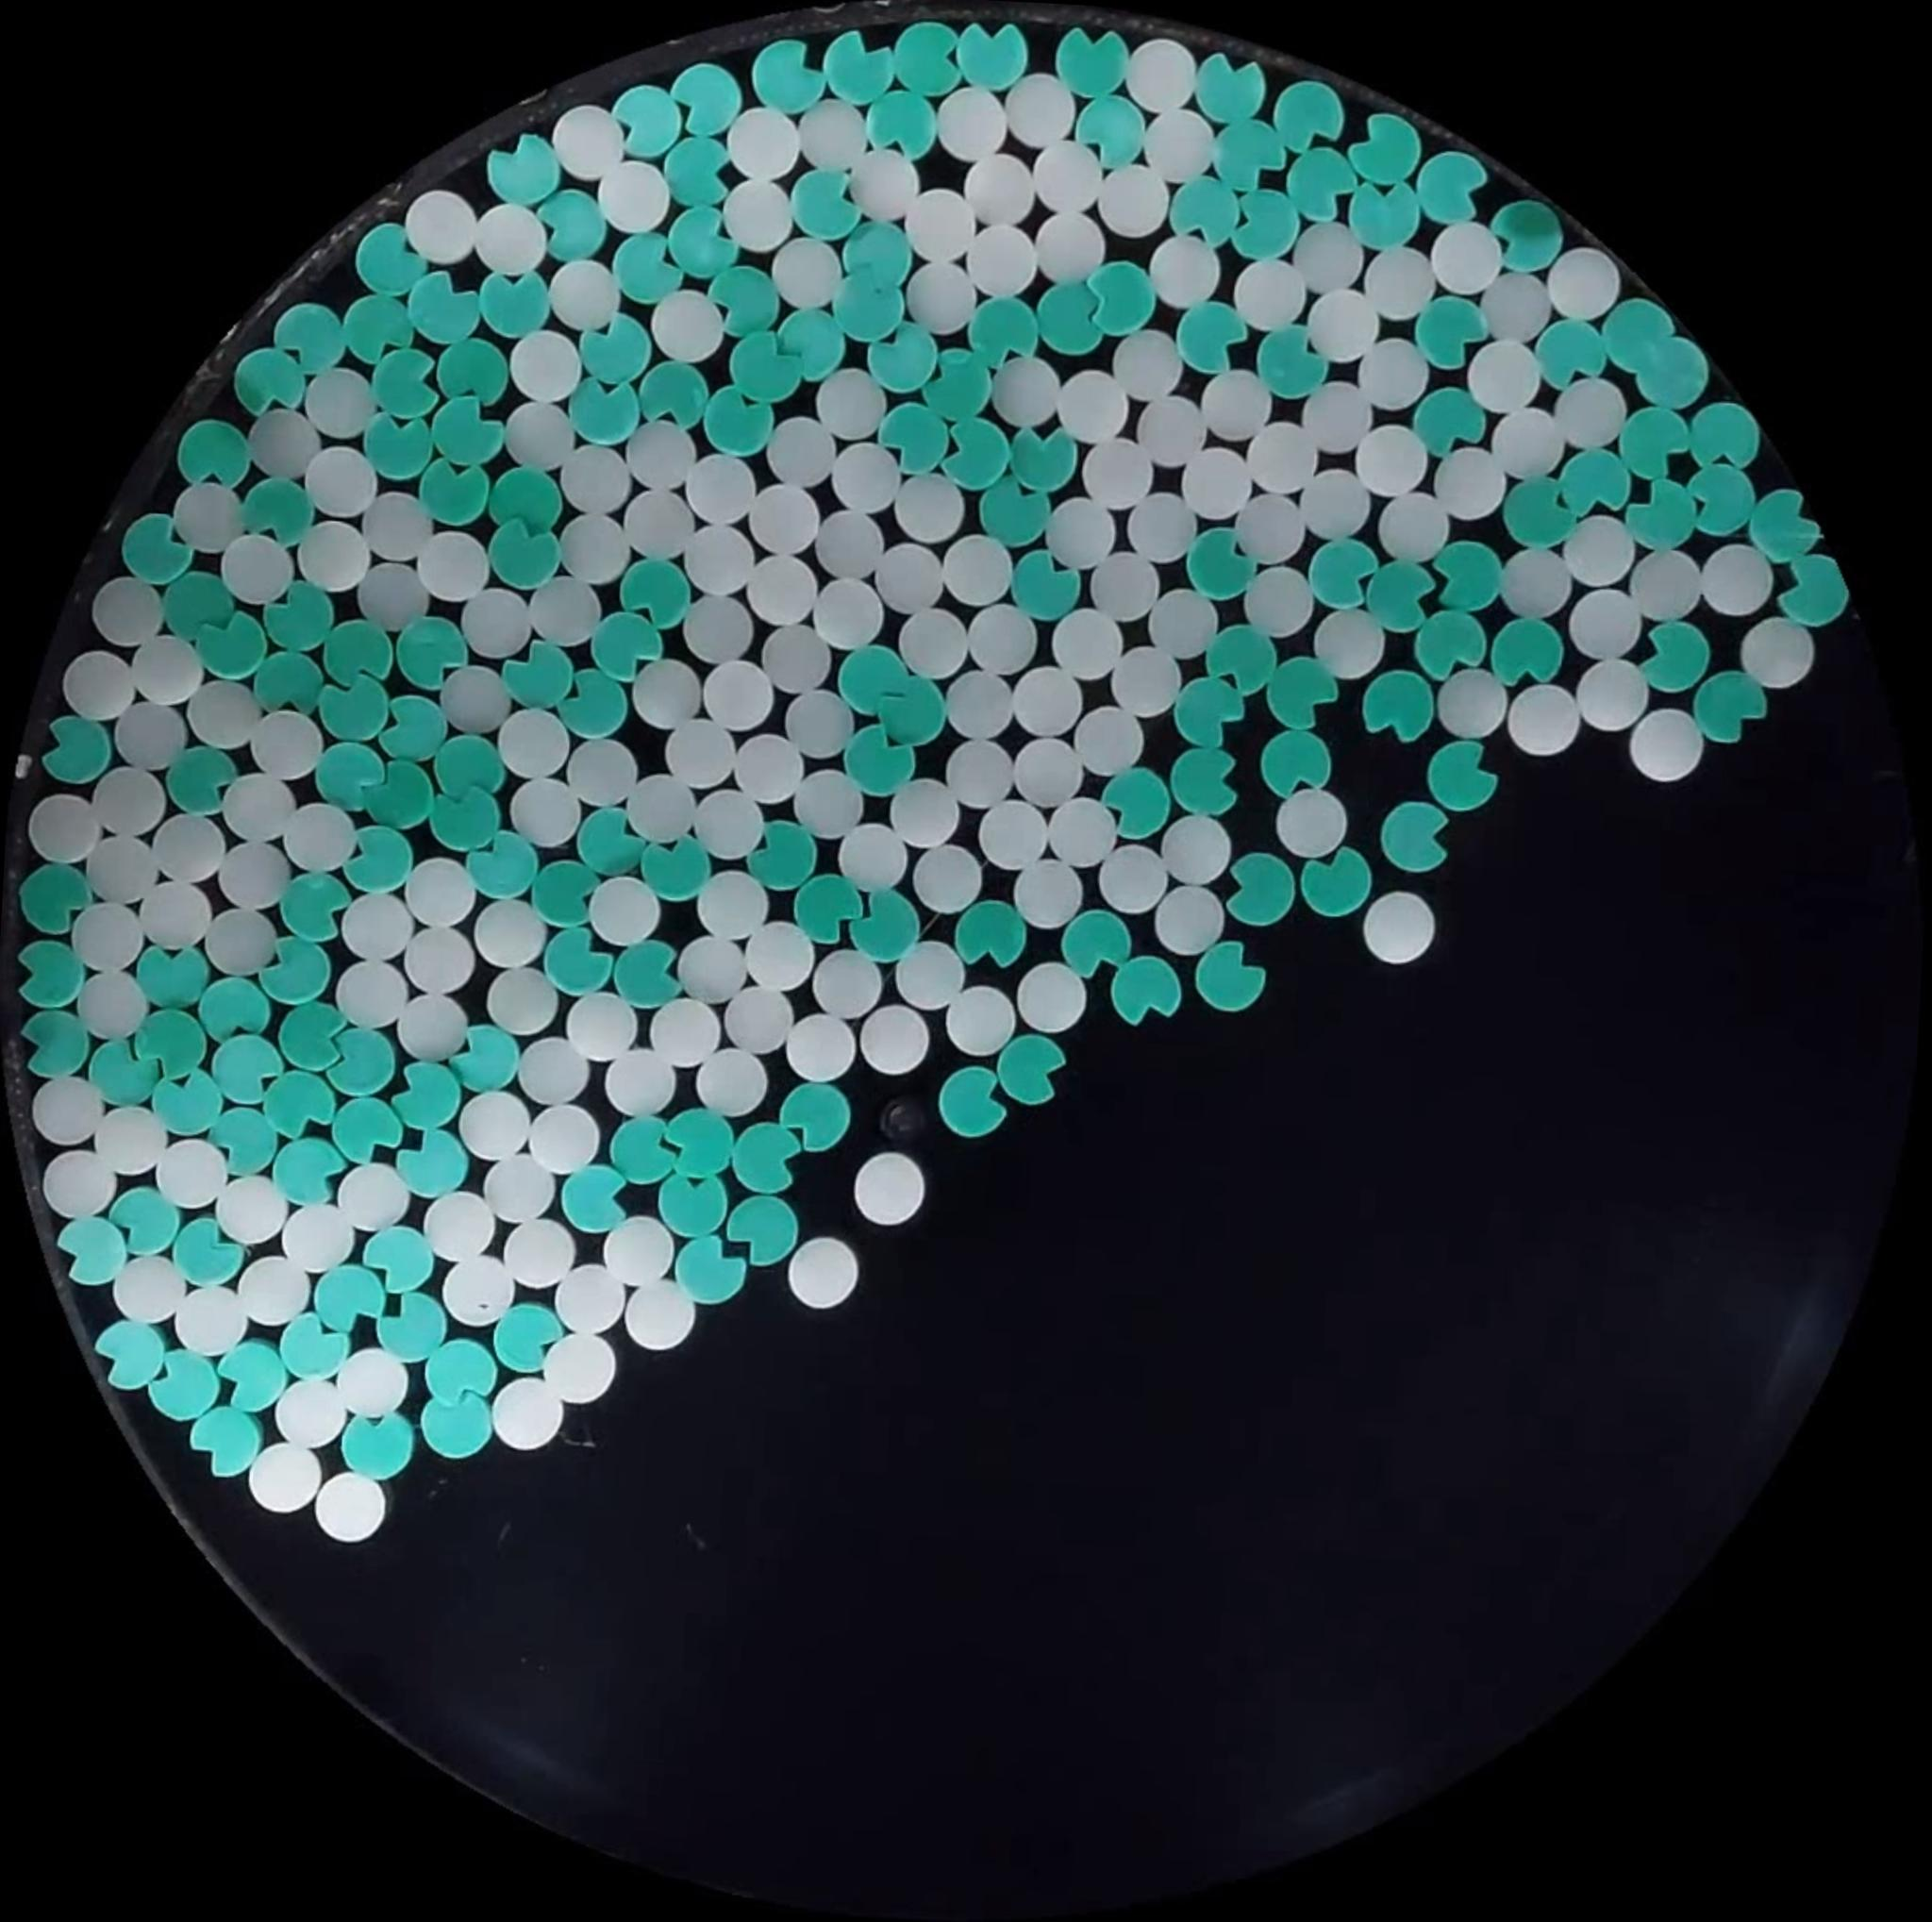disco-pmma: (1003, 660, 1098, 748), (1172, 442, 1263, 530), (1012, 730, 1093, 827), (933, 730, 1019, 818), (806, 577, 896, 662), (697, 866, 787, 949), (1089, 829, 1172, 917), (1467, 268, 1559, 347), (90, 569, 172, 655), (758, 408, 846, 489), (1158, 799, 1240, 884), (669, 929, 757, 1009), (1281, 218, 1369, 297), (1346, 334, 1438, 410), (1357, 241, 1439, 324), (558, 438, 640, 521), (1066, 704, 1149, 787), (753, 623, 839, 702), (723, 106, 806, 187), (1566, 584, 1649, 665), (1026, 137, 1107, 220), (199, 898, 282, 979), (1197, 366, 1277, 449), (867, 533, 947, 618), (957, 600, 1043, 678), (648, 287, 728, 368), (593, 155, 674, 236), (716, 176, 797, 257), (435, 660, 516, 741), (686, 516, 767, 597), (1431, 442, 1510, 525), (901, 187, 980, 269), (88, 762, 171, 841), (699, 657, 781, 736), (1735, 613, 1818, 692), (524, 567, 609, 644), (1038, 495, 1123, 572), (1024, 206, 1109, 283), (299, 442, 380, 521), (544, 255, 625, 334), (415, 525, 494, 605), (507, 327, 586, 408), (744, 484, 825, 563), (1626, 708, 1707, 787), (1464, 336, 1543, 417), (1093, 160, 1174, 239), (125, 632, 206, 711), (1427, 220, 1508, 299), (1138, 104, 1218, 185), (60, 644, 141, 723), (1121, 35, 1200, 116), (79, 822, 160, 901), (134, 875, 216, 952), (148, 811, 231, 889), (1077, 435, 1160, 512), (1228, 255, 1311, 333), (1624, 547, 1709, 623), (294, 514, 373, 593), (662, 713, 741, 792), (1559, 514, 1638, 593), (1353, 422, 1432, 502), (91, 1104, 171, 1183), (1571, 657, 1650, 736), (1293, 465, 1372, 544), (171, 1281, 252, 1359), (1541, 246, 1622, 324), (468, 201, 549, 278), (538, 1329, 619, 1406), (545, 106, 626, 183), (961, 150, 1038, 231), (684, 451, 765, 528), (1246, 417, 1323, 498), (1300, 285, 1381, 363), (69, 894, 151, 970), (934, 665, 1019, 739), (216, 532, 296, 609), (470, 894, 549, 972), (72, 966, 151, 1044), (28, 1074, 107, 1151), (514, 1031, 593, 1109), (1696, 542, 1775, 620), (501, 394, 581, 472), (1550, 377, 1628, 456), (401, 192, 480, 269), (1504, 681, 1584, 759), (690, 783, 767, 862), (1497, 547, 1577, 625), (183, 678, 264, 753), (1434, 672, 1517, 746), (216, 774, 301, 847), (399, 922, 477, 1000), (1052, 370, 1130, 447), (213, 1170, 290, 1248), (1001, 74, 1079, 151), (808, 507, 885, 584), (1109, 648, 1186, 725), (959, 222, 1036, 299), (1149, 236, 1226, 313), (602, 1045, 681, 1121), (743, 921, 822, 996), (454, 1088, 533, 1163), (151, 1135, 231, 1211), (39, 1146, 118, 1221), (560, 991, 639, 1067), (246, 709, 326, 785), (276, 1200, 355, 1276), (334, 1160, 413, 1236), (801, 952, 882, 1026), (774, 688, 855, 762), (1307, 609, 1388, 683), (359, 486, 442, 558), (834, 820, 917, 892), (1126, 394, 1209, 466), (619, 493, 704, 563), (846, 148, 922, 225), (728, 734, 806, 810), (401, 855, 479, 931), (933, 86, 1008, 164), (234, 1253, 311, 1329), (338, 889, 415, 965), (301, 366, 377, 444), (1360, 891, 1438, 966), (215, 833, 292, 908), (553, 510, 630, 586), (586, 875, 663, 950), (1086, 547, 1163, 623), (1490, 405, 1568, 480), (523, 1102, 602, 1176), (278, 801, 357, 875), (480, 1153, 560, 1227), (109, 699, 188, 773), (465, 581, 538, 660), (619, 419, 699, 493), (746, 551, 825, 625), (1374, 491, 1453, 565), (971, 799, 1052, 871), (938, 532, 1010, 613), (904, 259, 977, 340), (1049, 609, 1131, 679), (489, 1378, 565, 1454), (500, 1216, 575, 1292), (394, 991, 472, 1065), (421, 1192, 498, 1265), (484, 965, 561, 1038), (109, 1251, 187, 1325), (794, 99, 871, 172), (623, 1280, 700, 1353), (440, 1255, 517, 1329), (885, 776, 962, 850), (331, 1348, 410, 1420), (348, 558, 428, 630), (716, 986, 795, 1058), (334, 957, 410, 1031), (1153, 884, 1226, 959), (646, 996, 721, 1070), (693, 1045, 769, 1119), (943, 984, 1017, 1060), (781, 1012, 857, 1086), (313, 1471, 389, 1545), (553, 1264, 628, 1338), (857, 1003, 931, 1079), (273, 1376, 348, 1450), (852, 1153, 927, 1227), (785, 1237, 860, 1311), (787, 769, 860, 845), (1237, 491, 1311, 567), (1306, 380, 1379, 456), (245, 1443, 322, 1515), (25, 797, 104, 868), (1014, 961, 1087, 1035), (1274, 787, 1348, 861), (602, 1216, 676, 1290), (245, 407, 320, 479), (899, 605, 975, 678), (1153, 583, 1223, 660), (1101, 333, 1179, 403), (507, 778, 586, 847), (991, 359, 1070, 428), (688, 595, 762, 667), (501, 706, 574, 780), (561, 737, 635, 810), (1015, 859, 1087, 933), (630, 660, 702, 732), (917, 840, 991, 910), (815, 366, 885, 440), (772, 238, 843, 312), (1239, 565, 1311, 634), (1047, 804, 1117, 873), (623, 776, 695, 841), (896, 943, 962, 1012), (1130, 489, 1197, 558), (890, 475, 964, 537), (827, 451, 897, 514), (171, 486, 239, 547)
